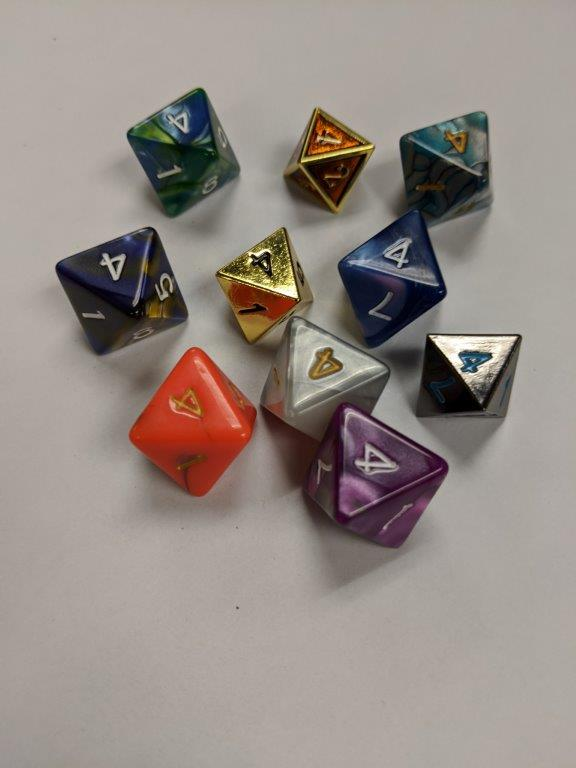d8-4: (288, 399, 451, 553), (124, 347, 259, 500), (53, 229, 188, 357), (334, 208, 445, 345), (255, 319, 387, 431), (126, 86, 241, 213), (215, 221, 316, 349), (398, 108, 491, 226), (410, 329, 522, 422), (280, 104, 374, 209)
